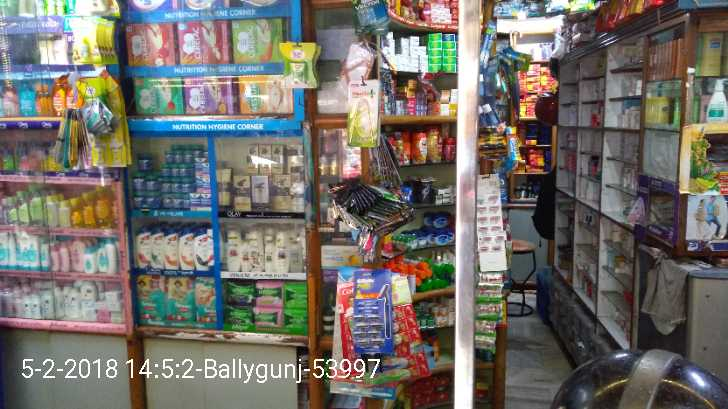vicks: (134, 142, 208, 212)
